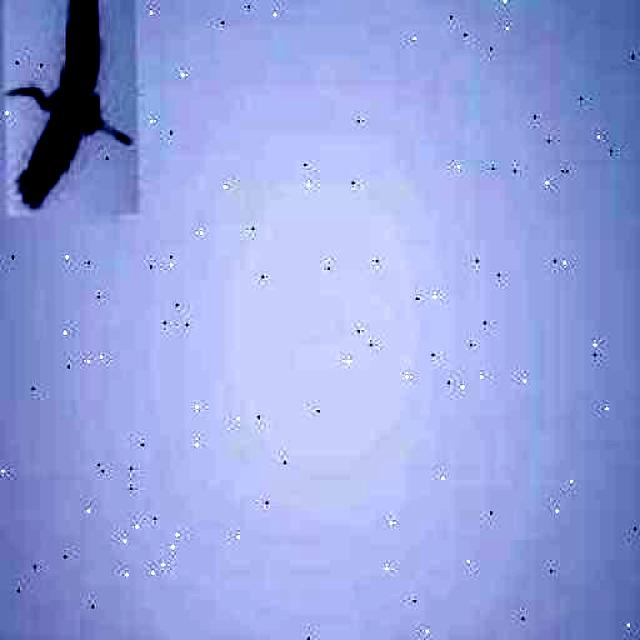airplane: (2, 0, 139, 215)
